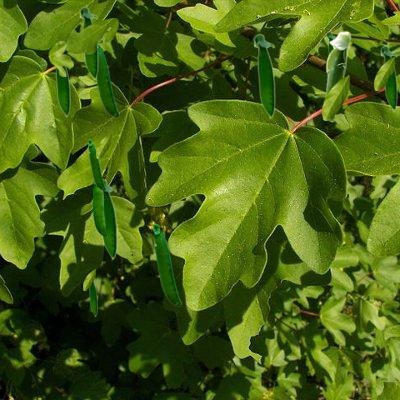pea: (325, 31, 350, 121), (153, 223, 180, 305), (253, 33, 274, 119), (96, 44, 118, 116), (79, 6, 97, 80), (102, 178, 116, 260), (380, 45, 396, 111), (88, 139, 104, 189), (93, 182, 106, 236), (55, 67, 69, 117), (88, 278, 96, 316), (326, 31, 335, 53)
